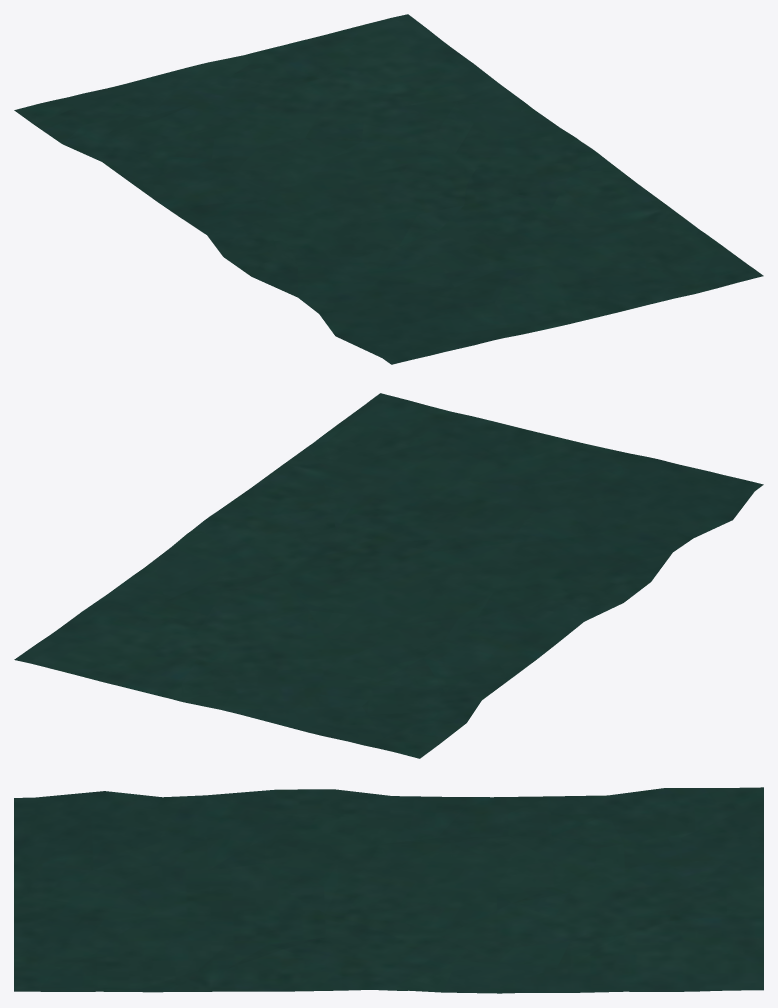
3 views of the same model, one above another, from view 1: azimuth 30°, elevation 25°; view 2: azimuth 150°, elevation 25°; view 3: azimuth 270°, elevation 25° (orthographic). The views are drawn at different scales.
Size of the model in its own units: 33.39 by 0.4171 by 52.22.
2 materials, 2 textured.
